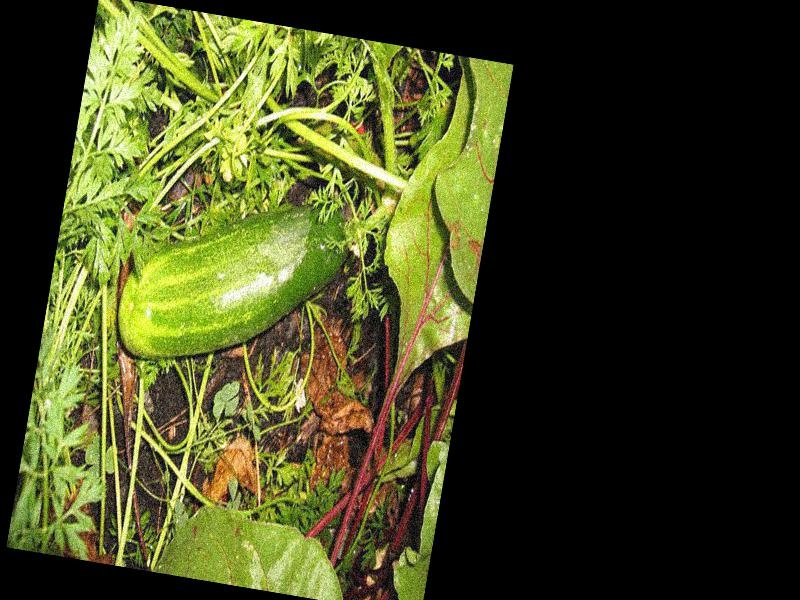Cucumber: (114, 169, 355, 389)
